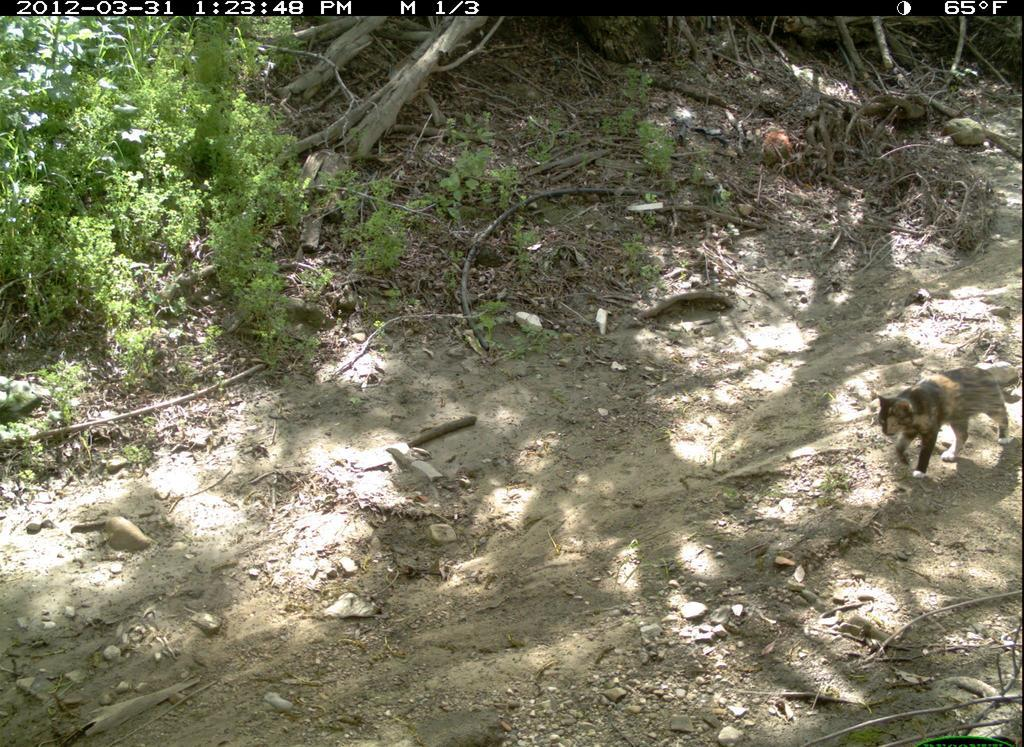cat: (859, 345, 1021, 496)
